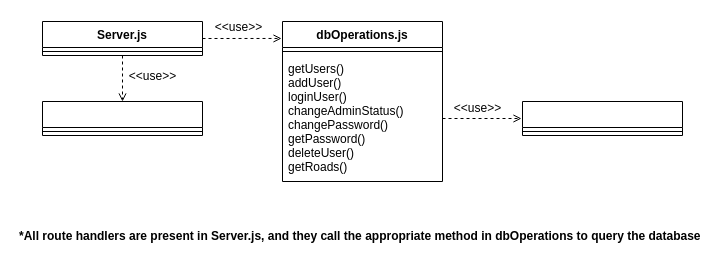
The diagram is 724 pixels wide and 268 high, and some of its shapes have lost their labels. The centre of each missing label's shape, as x and y in pixels:
".env" goes at point 122,118.
"dbConfig.js" goes at point 602,118.
